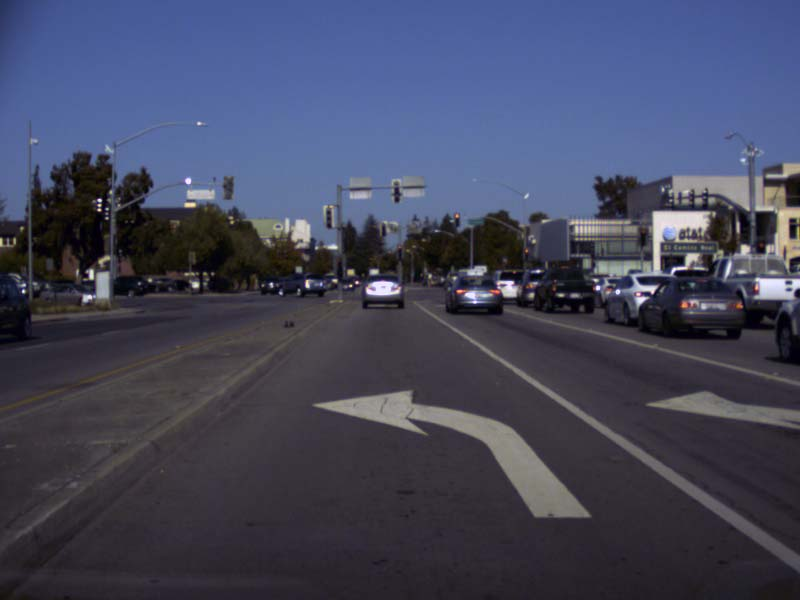Red: (638, 227, 646, 246), (757, 239, 764, 252), (453, 212, 459, 226)
